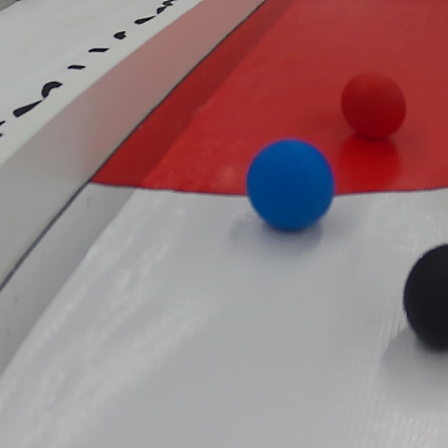black: (402, 237, 448, 351)
blue: (237, 139, 338, 236)
red: (336, 70, 413, 138)
red_base: (77, 2, 448, 196)
